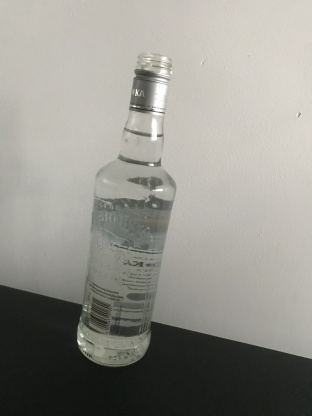nakretka: (128, 51, 173, 117)
